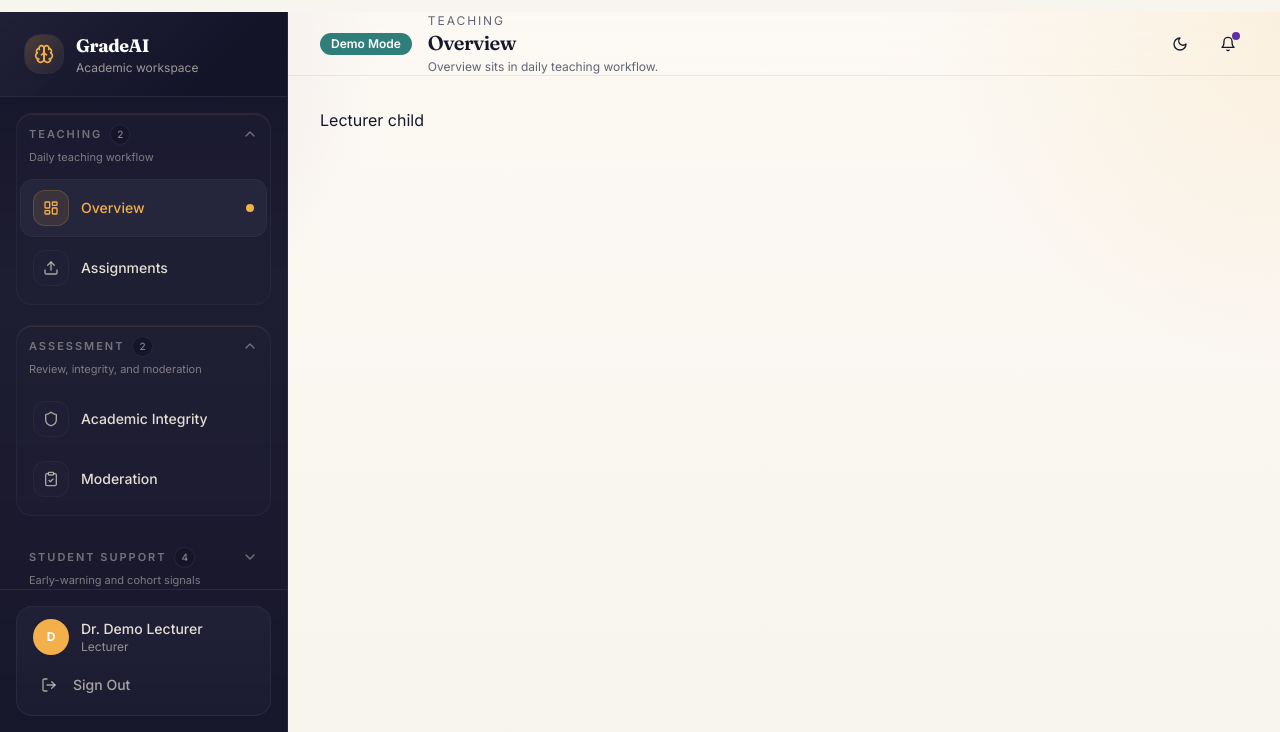
Test: DashboardLayout demo mode › shows lecturer workflow hints in demo lecturer mode
Click the button named "Open notifications" at {"x": 1228, "y": 44}, box top-left (1208, 24), bottom-right (1248, 64)
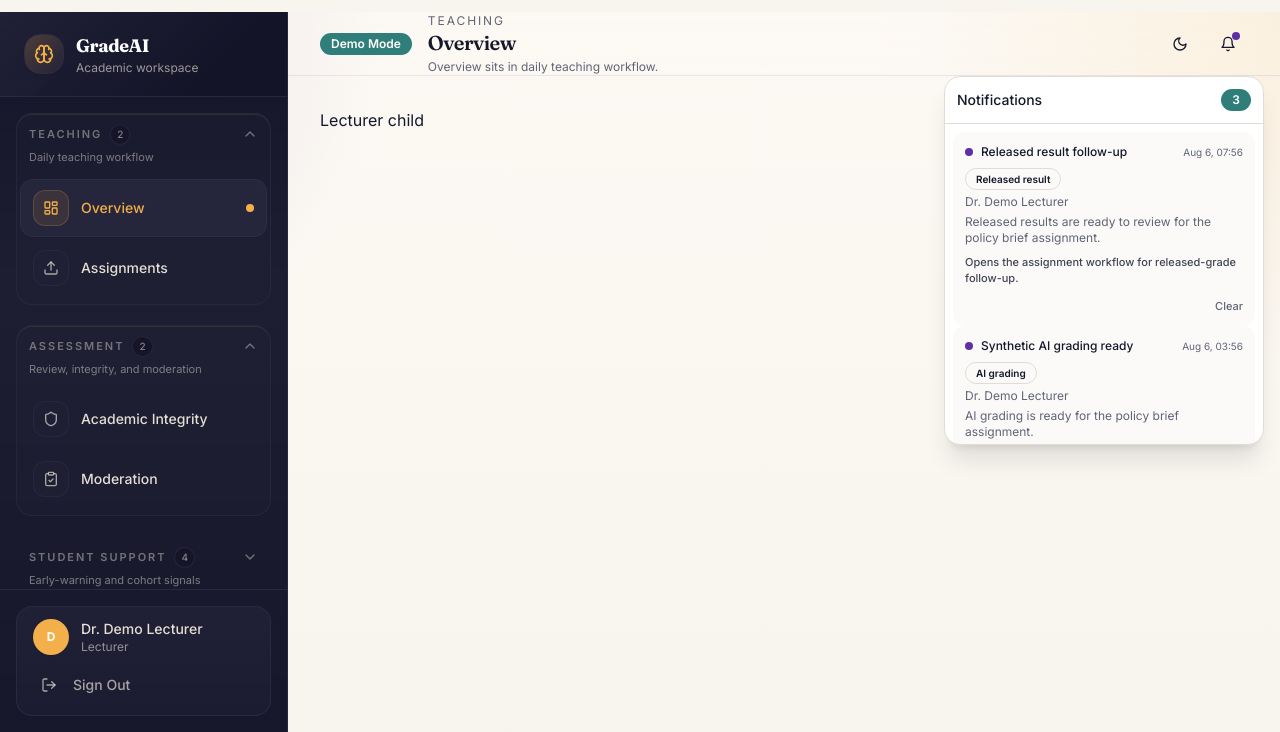
Check: the text "Released result" is shown, box top-left (965, 168), bottom-right (1061, 190)
